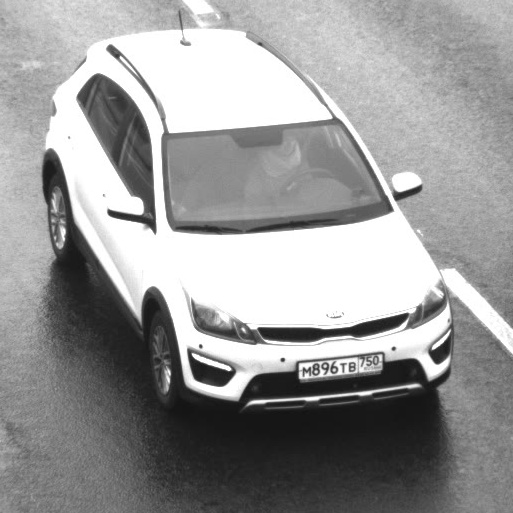plate: (285, 340, 393, 390)
